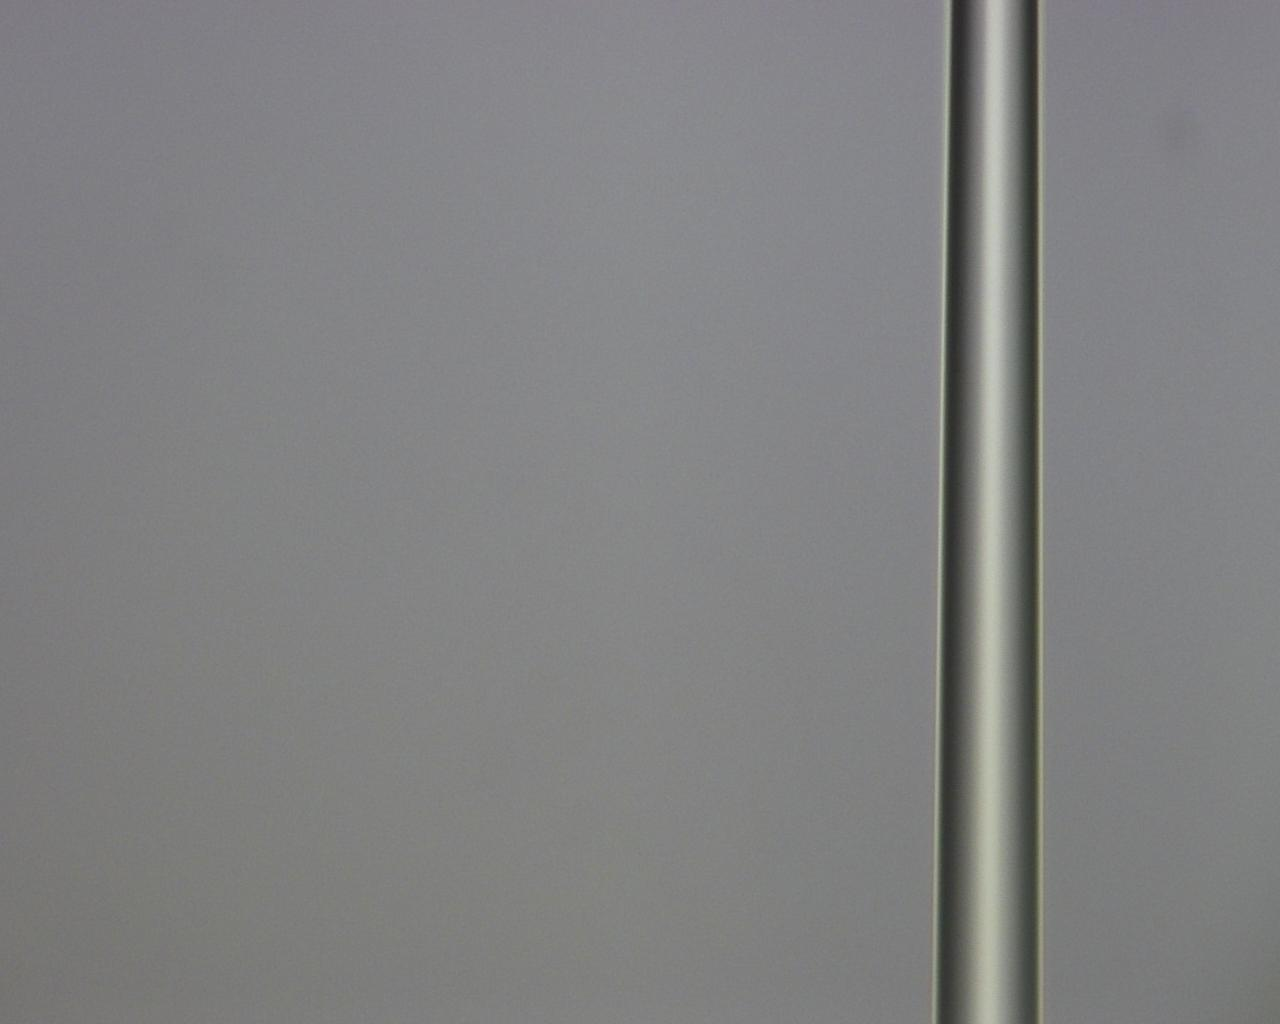fiber: (451, 0, 880, 1024)
